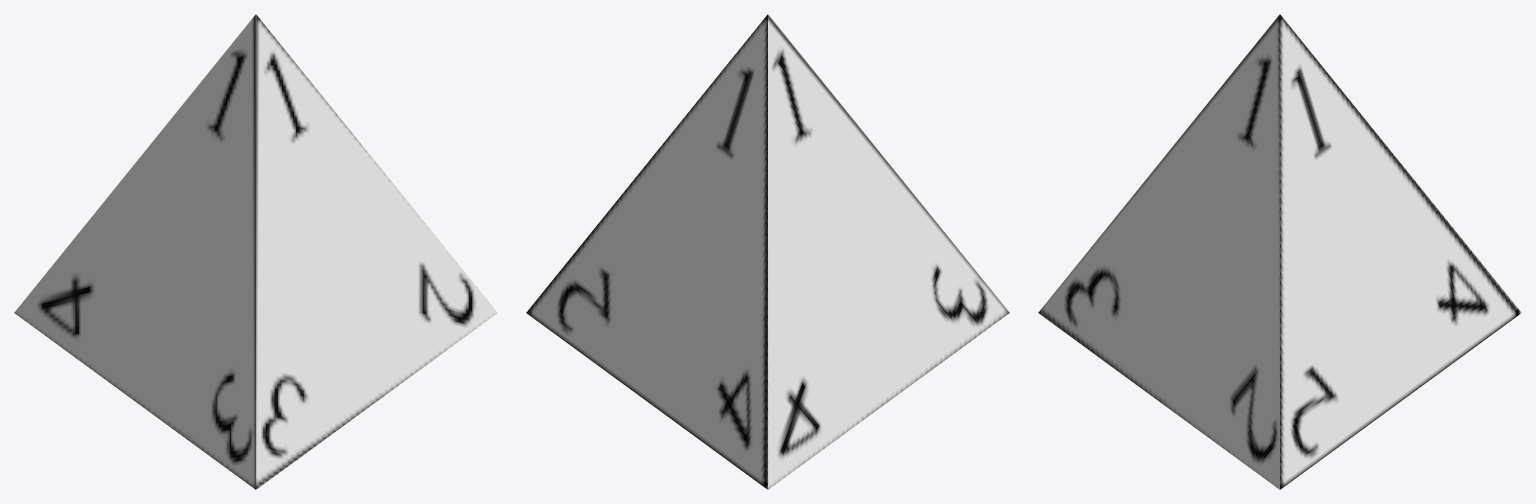
3 views of the same model, side by side, from view 1: azimuth 30°, elevation 25°; view 2: azimuth 150°, elevation 25°; view 3: azimuth 270°, elevation 25° (orthographic).
Visible parts, largest first — view 1: D4; view 2: D4; view 3: D4.
Part boxes in pixels (x1,y1,x2,y2): D4: (14, 14, 497, 489); D4: (526, 14, 1009, 489); D4: (1038, 14, 1521, 489).
Size of the model in its own units: 107 by 101 by 123.
